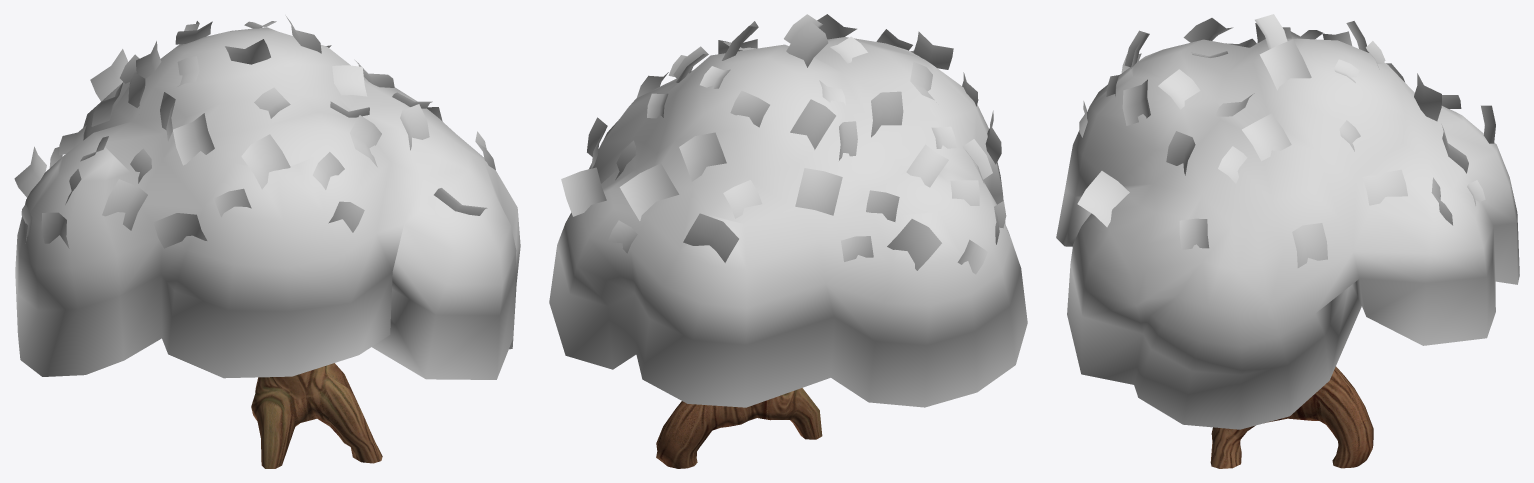
The model's file is Tree_2.fbx.
3 views of the same model, side by side, from view 1: azimuth 30°, elevation 25°; view 2: azimuth 150°, elevation 25°; view 3: azimuth 270°, elevation 25° (orthographic). The views are drawn at different scales.
Parts seen in each view (by area): view 1: mesh_1_4.nr; view 2: mesh_1_4.nr; view 3: mesh_1_4.nr.
Part boxes in pixels (x1,y1,x2,y2): mesh_1_4.nr: [14, 15, 520, 468]; mesh_1_4.nr: [549, 14, 1027, 468]; mesh_1_4.nr: [1056, 14, 1519, 468].
Bounding box in the file's own units: 869 × 811 × 845.
2 materials, 1 textured.
